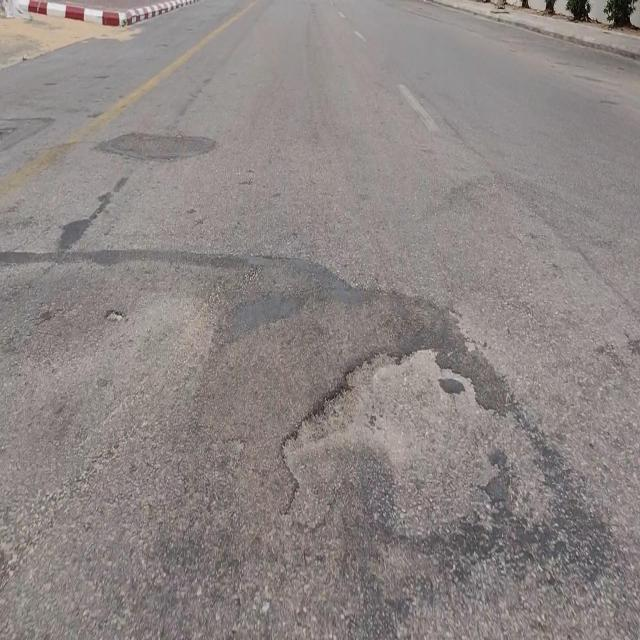Pothole: (278, 344, 500, 545)
